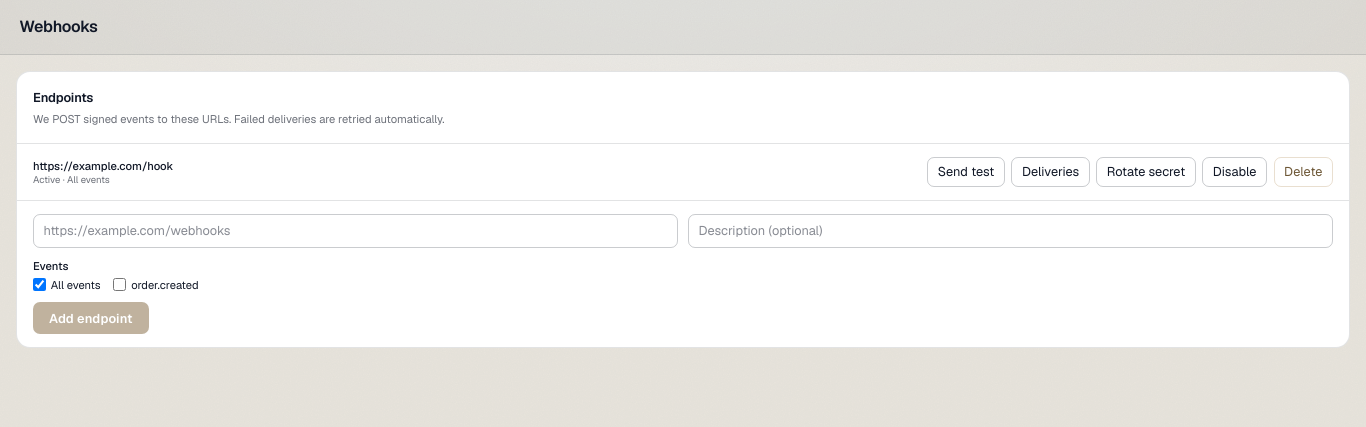
it: AdminWebhooks › lists deliveries and retries a failed one
Later steps or results of the test are not shown.
Click the button "Deliveries" at (1050, 172), box [1011,157,1090,187]
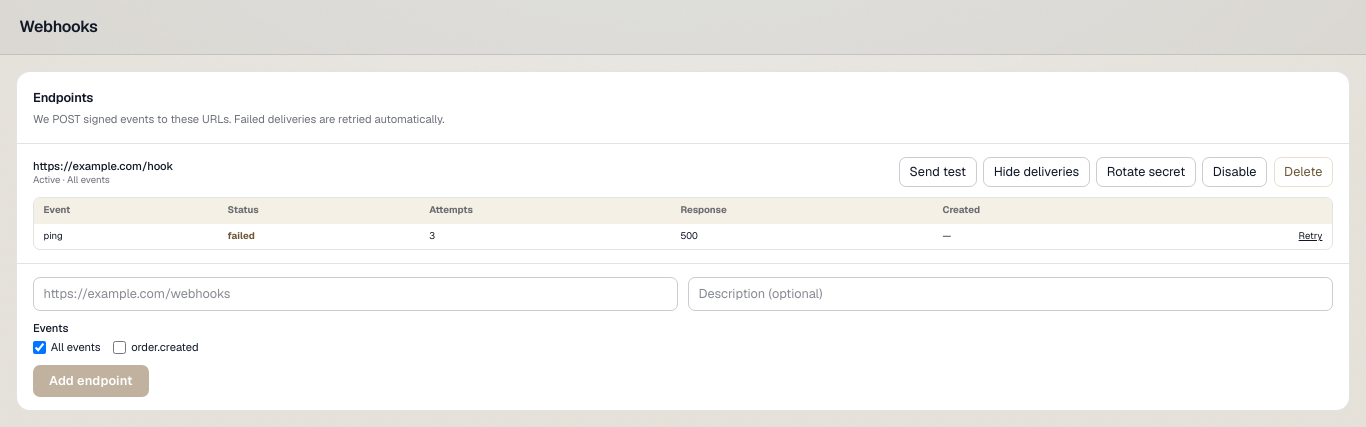
Result: the text "failed" is shown at [228,229,255,242]
